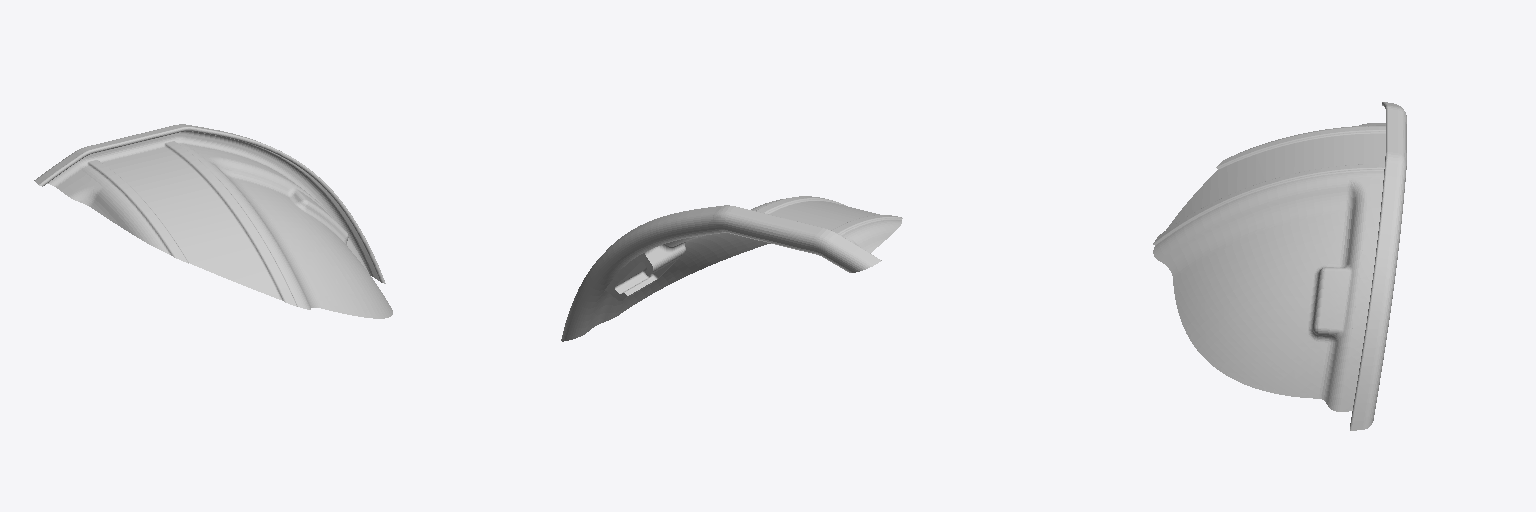
Rendered from Body6.obj.
The picture shows the model from 3 angles: view 1: azimuth 30°, elevation 25°; view 2: azimuth 150°, elevation 25°; view 3: azimuth 270°, elevation 25°; orthographic projection.
Parts seen in each view (by area): view 1: Body6; view 2: Body6; view 3: Body6.
Part boxes in pixels (left/top/right/bottom): Body6: left=34, top=124, right=392, bottom=318; Body6: left=561, top=196, right=902, bottom=341; Body6: left=1153, top=102, right=1406, bottom=430.
Size of the model in its own units: 1.66 by 0.904 by 1.11.